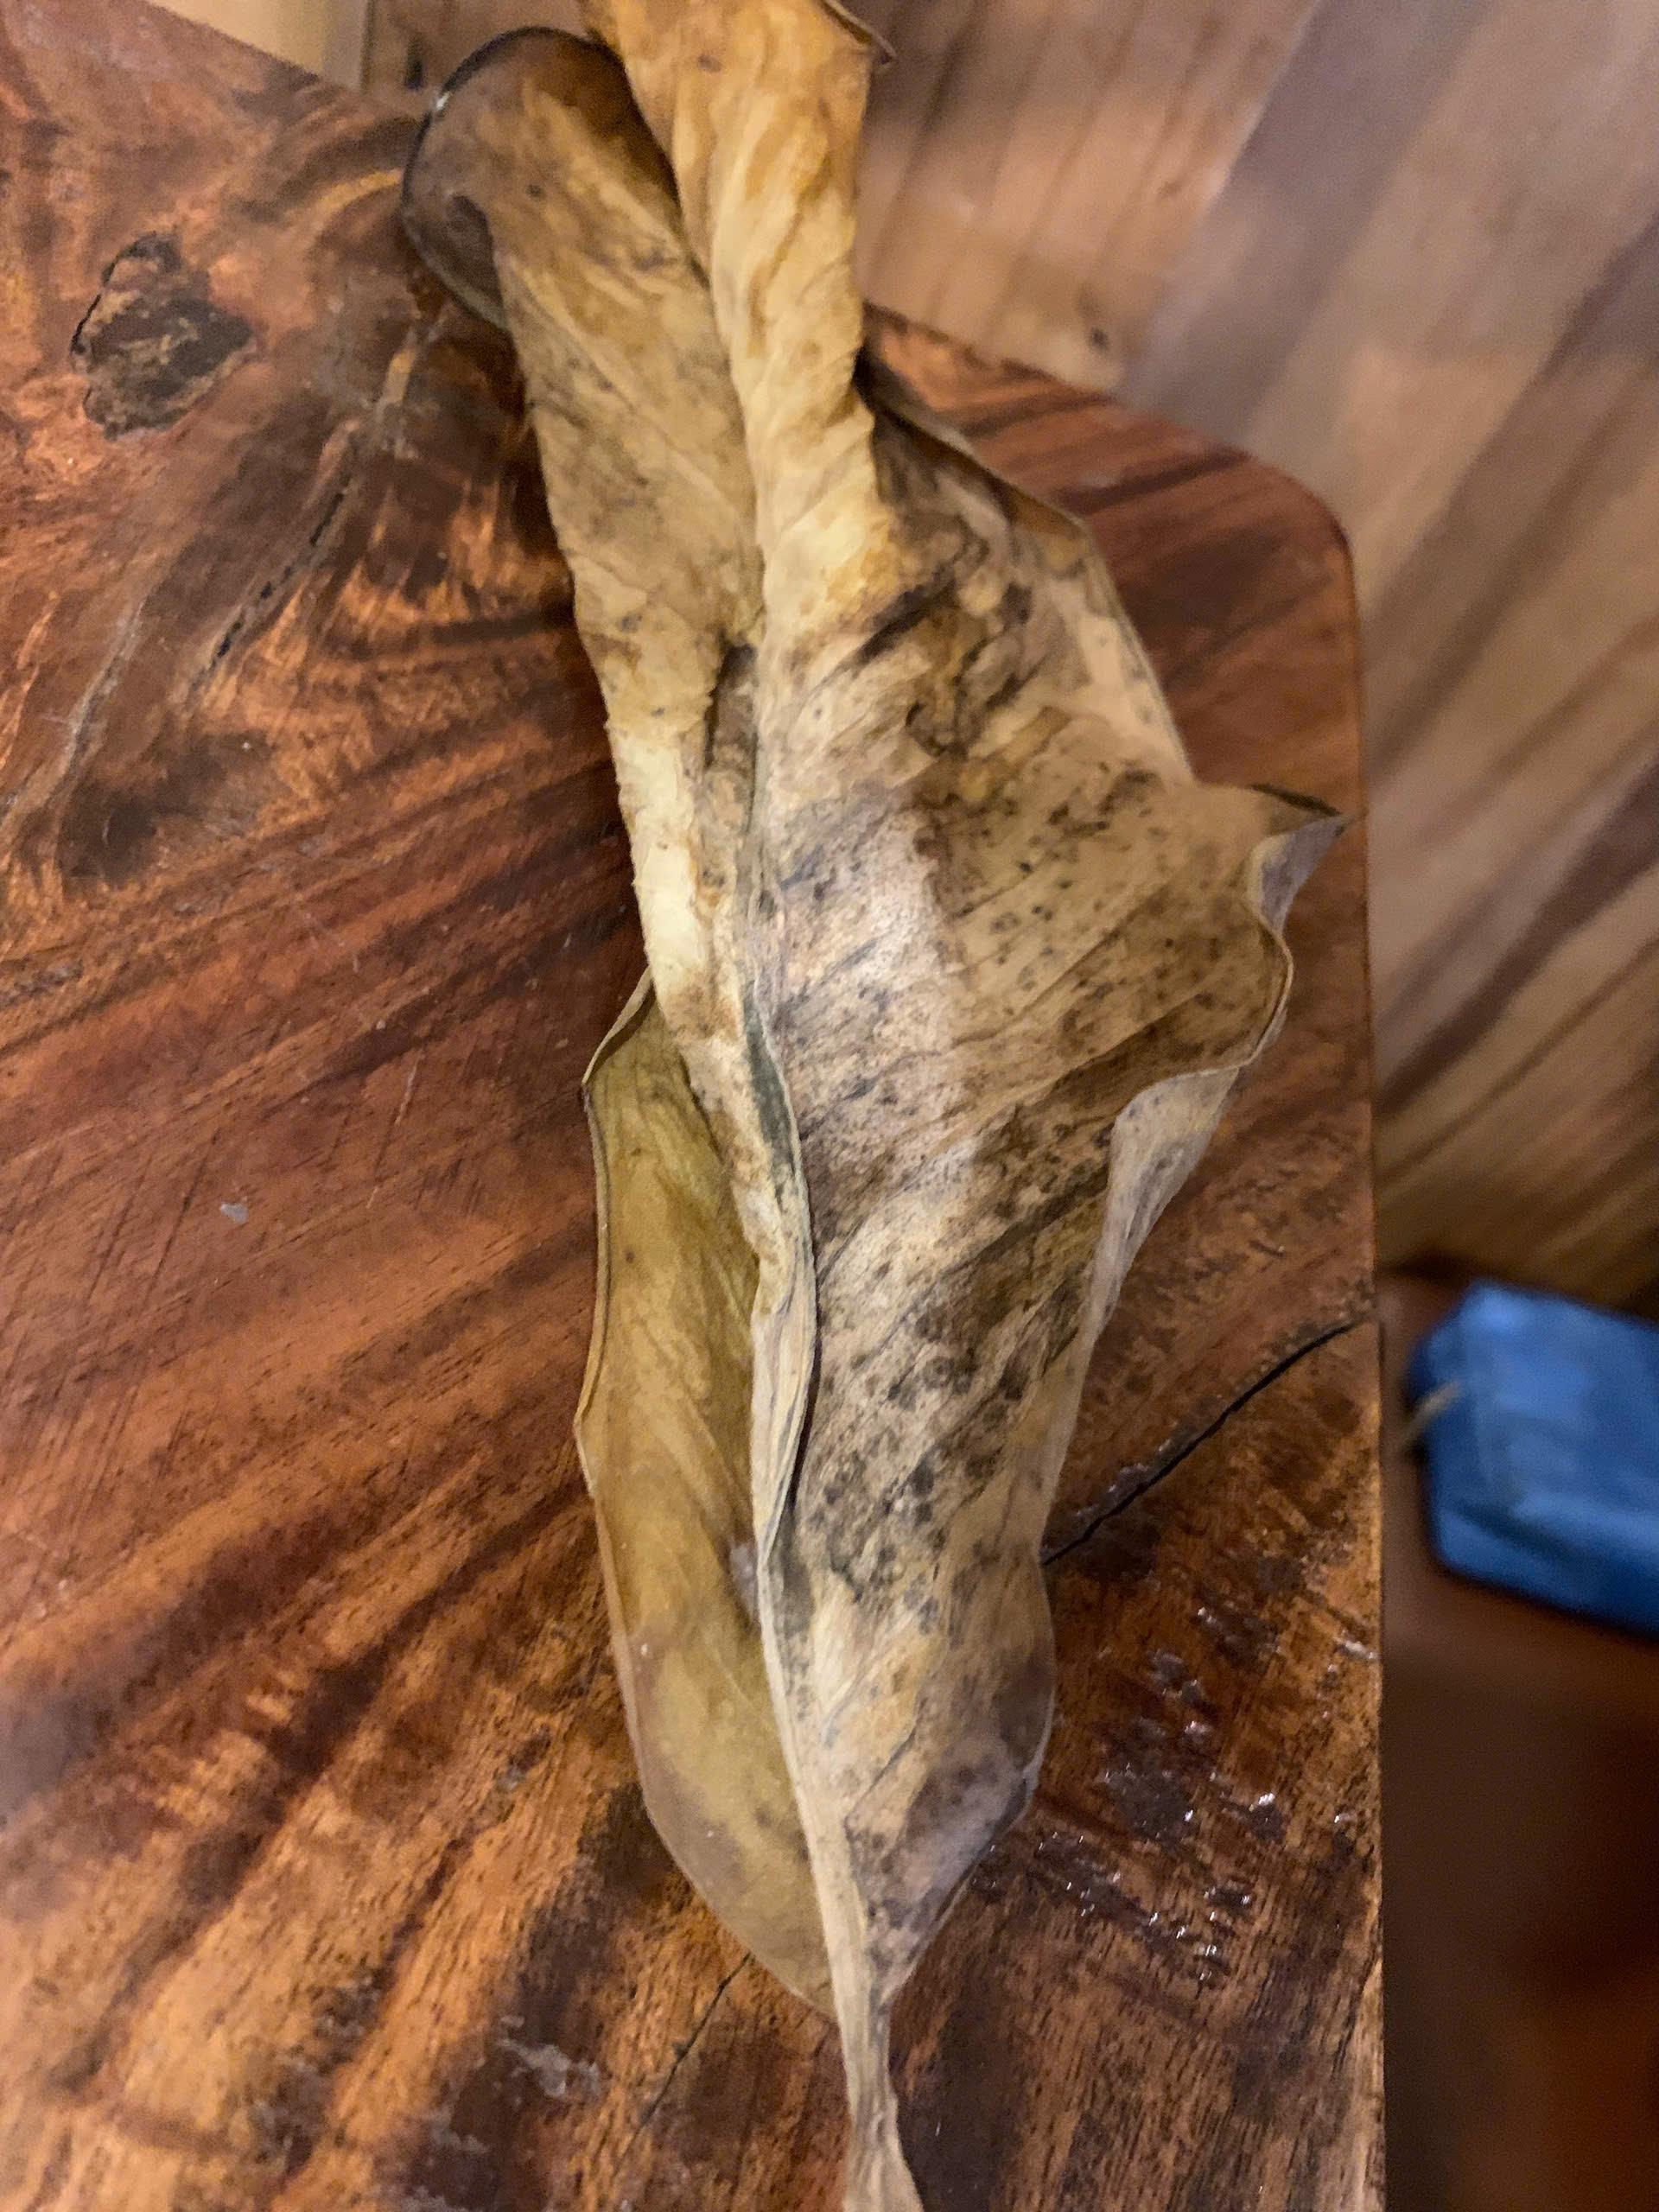Huu co: (584, 0, 1324, 2212)
